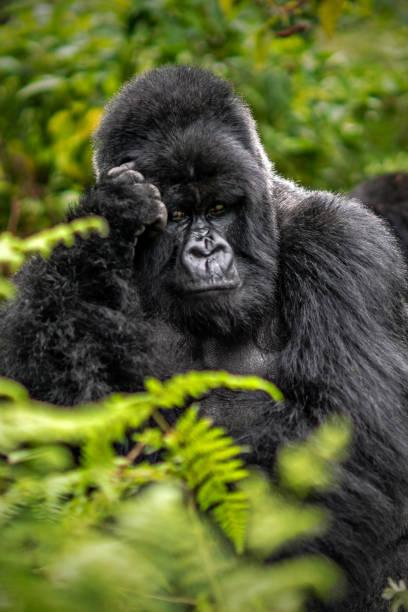goriile_montagne: (30, 46, 408, 592)
